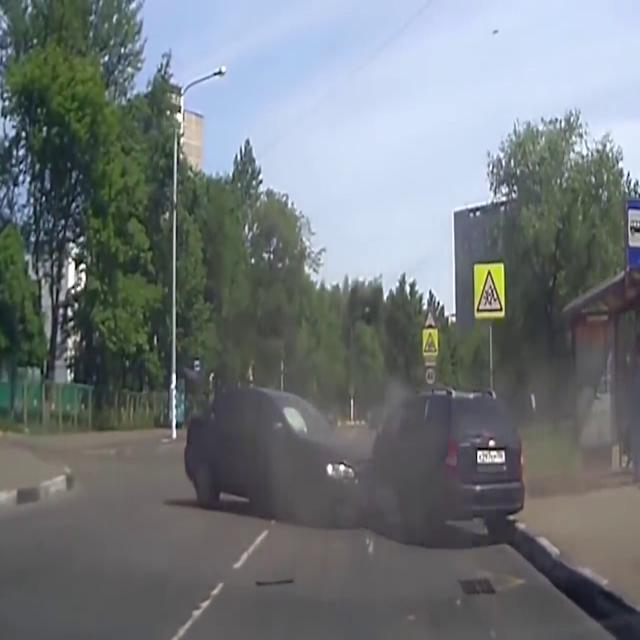multiple_accident: (143, 305, 563, 573)
